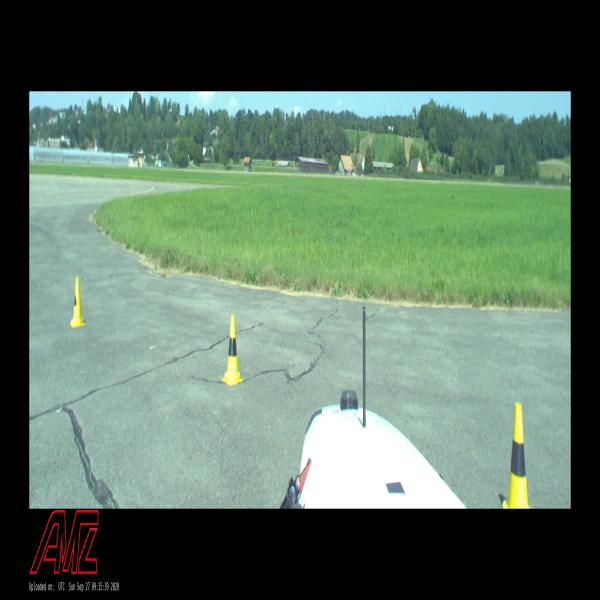yellow_cone: (502, 403, 535, 508), (222, 315, 243, 385), (70, 278, 84, 327)
